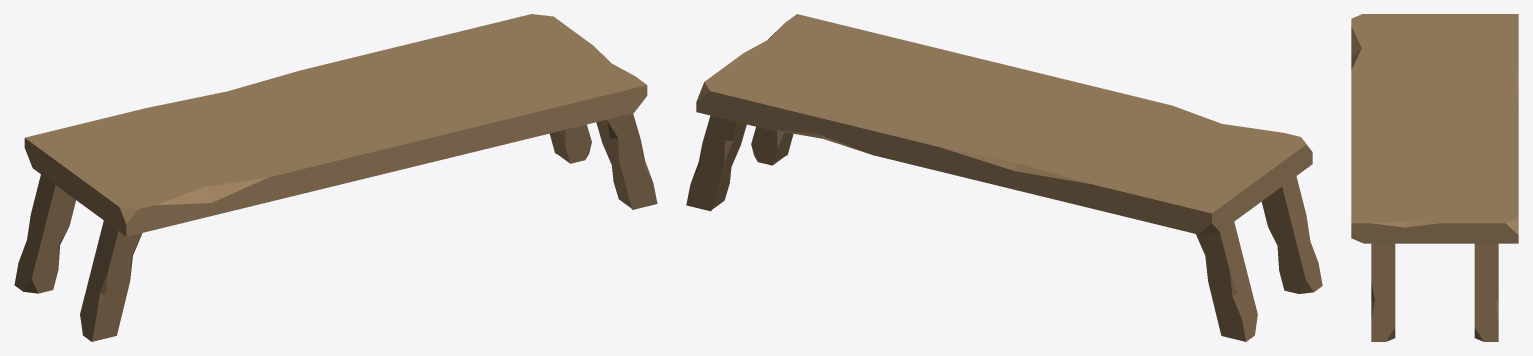
File: SM_Env_Wood_08.fbx
3 views of the same model, side by side, from view 1: azimuth 30°, elevation 25°; view 2: azimuth 150°, elevation 25°; view 3: azimuth 270°, elevation 25° (orthographic). The views are drawn at different scales.
Visible parts, largest first — view 1: SM_Env_Wood_08; view 2: SM_Env_Wood_08; view 3: SM_Env_Wood_08.
Part boxes in pixels (left/top/right/bottom): SM_Env_Wood_08: left=14, top=14, right=657, bottom=341; SM_Env_Wood_08: left=686, top=14, right=1322, bottom=341; SM_Env_Wood_08: left=1351, top=14, right=1518, bottom=341.
Size of the model in its own units: 189 by 42.42 by 58.75.
Materials: 1 (1 with a texture image).
